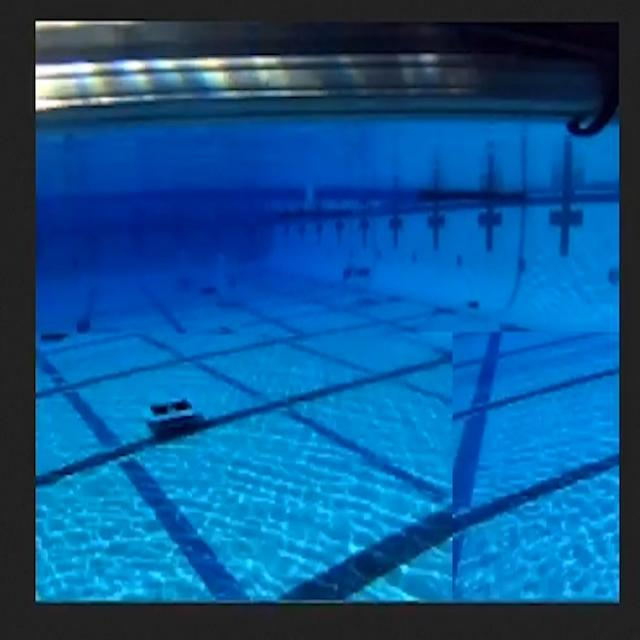Bin: (143, 389, 204, 425)
